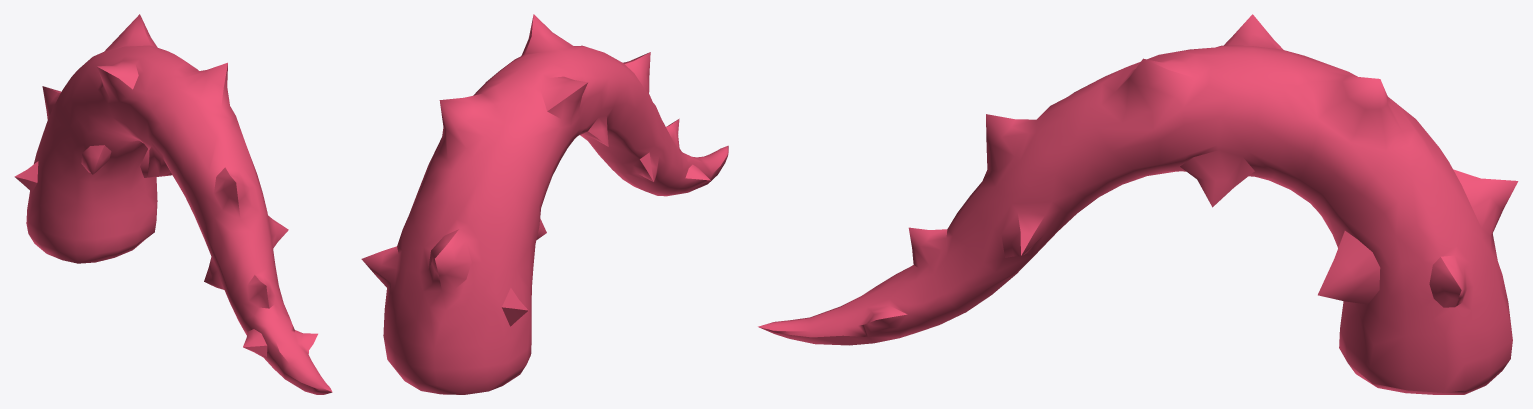
File: SM_thorny_liana_02.fbx
3 renders of one model, left to right at view 1: azimuth 30°, elevation 25°; view 2: azimuth 150°, elevation 25°; view 3: azimuth 270°, elevation 25°, orthographic. The views are drawn at different scales.
Parts seen in each view (by area): view 1: SM_thorny_liana_02; view 2: SM_thorny_liana_02; view 3: SM_thorny_liana_02.
Part boxes in pixels (bbox=[...]): SM_thorny_liana_02: bbox=[14, 14, 332, 394]; SM_thorny_liana_02: bbox=[361, 14, 728, 394]; SM_thorny_liana_02: bbox=[758, 14, 1518, 394].
Bounding box in the file's own units: 56.84 × 92.25 × 189.
